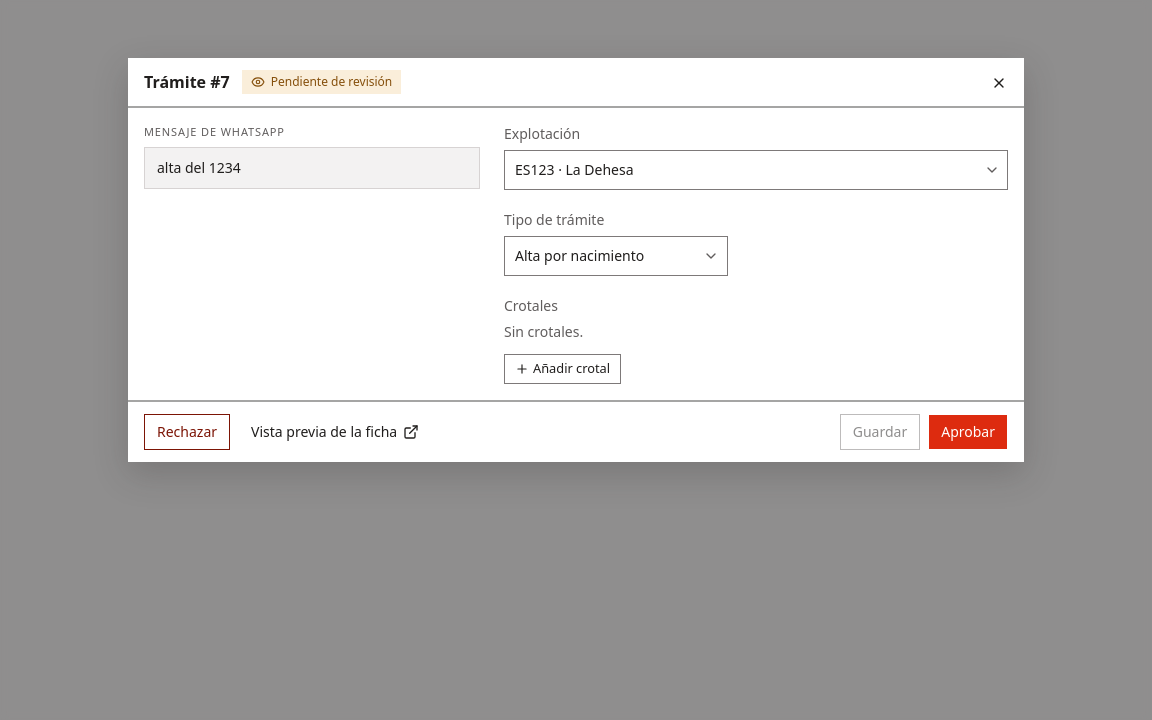
Test: TramiteReviewDialog: explotación (combobox con búsqueda en el backend, T4) › al abrir pide la primera página de 20 sin q (la etiqueta de la elegida cuenta como vacía, D3c/D3d)
Expected: the heading "Mensaje de WhatsApp" is shown, [144, 124, 285, 139]
Click the dropdown labelled "Explotación".
click(756, 170)  # box [504, 150, 1008, 190]
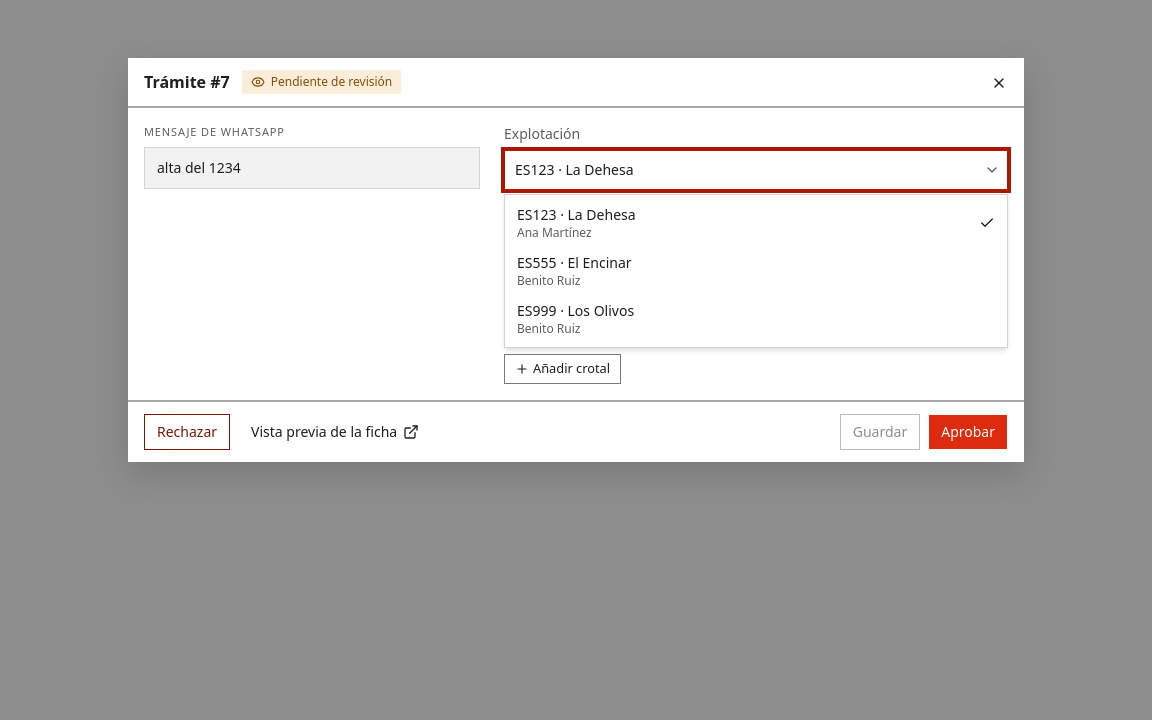
Now the number of options is 3, box [509, 199, 1003, 247]; [516, 253, 632, 289]; [516, 301, 634, 337]
Now the option named "ES123 · La Dehesa, ganadero: Ana Martínez" is shown, box [509, 199, 1003, 247]
